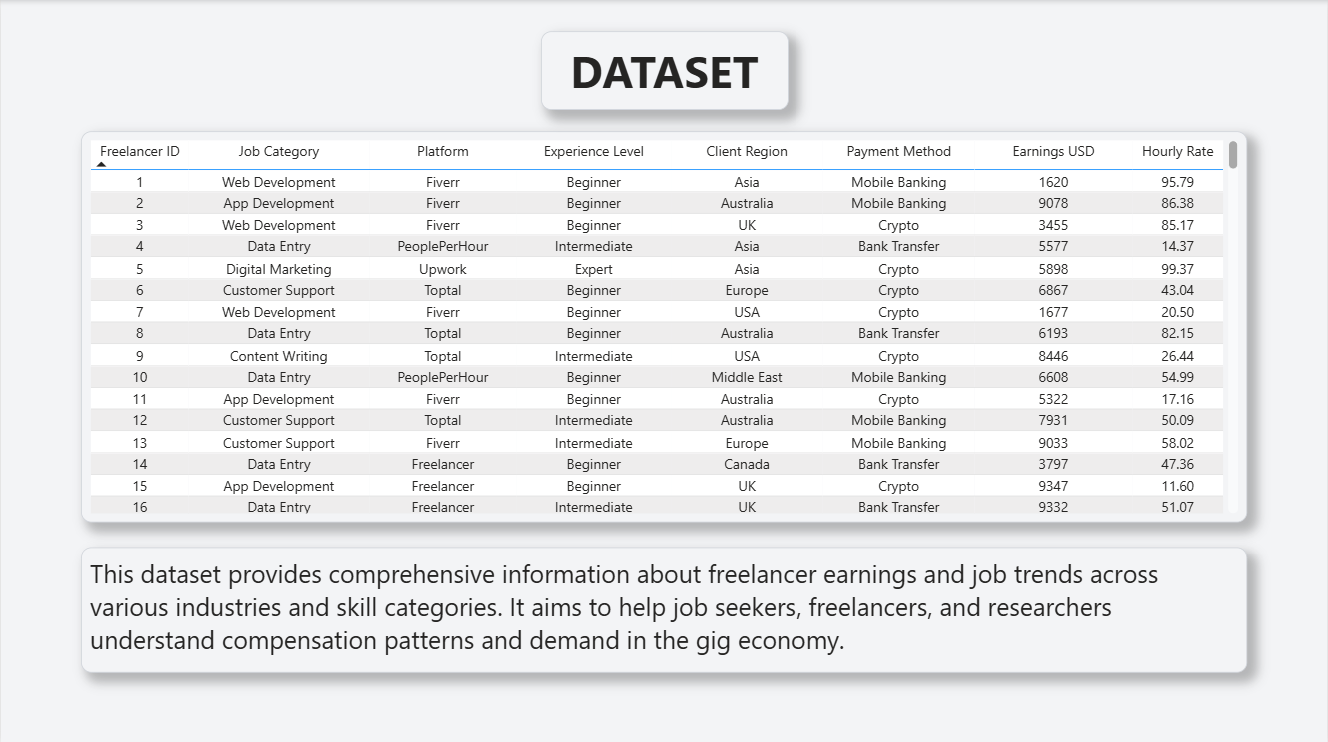

The dashboard page shown, as its layout file describes it:
{"tool":"powerbi","page":{"name":"Dataset","canvas":[1280,720],"ordinal":1},"visuals":[{"type":"tableEx","fields":{"Values":["freelancer_earnings_bd - freelancer_earnings_bd csv csv.Freelancer ID","freelancer_earnings_bd - freelancer_earnings_bd csv csv.Job Category","freelancer_earnings_bd - freelancer_earnings_bd csv csv.Platform","freelancer_earnings_bd - freelancer_earnings_bd csv csv.Experience Level","freelancer_earnings_bd - freelancer_earnings_bd csv csv.Client Region","freelancer_earnings_bd - freelancer_earnings_bd csv csv.Payment Method","freelancer_earnings_bd - freelancer_earnings_bd csv csv.Earnings USD","freelancer_earnings_bd - freelancer_earnings_bd csv csv.Hourly Rate"]},"box":[77.2,126.7,1125.6,377.6],"z":0},{"type":"textbox","box":[521.2,30.2,238.9,76],"z":1000},{"type":"textbox","box":[77.2,528.4,1125.6,120.6],"z":2000}]}

Visuals, with their boxes in screenshot pixels (x1, y1, x2, y2), scaled from the page's 1280x720 canvas onto the 1328x742 screenshot:
tableEx - freelancer_earnings_bd - freelancer_earnings_bd csv csv.Freelancer ID x freelancer_earnings_bd - freelancer_earnings_bd csv csv.Job Category: 80/131/1248/520
textbox: 541/31/789/109
textbox: 80/545/1248/669
